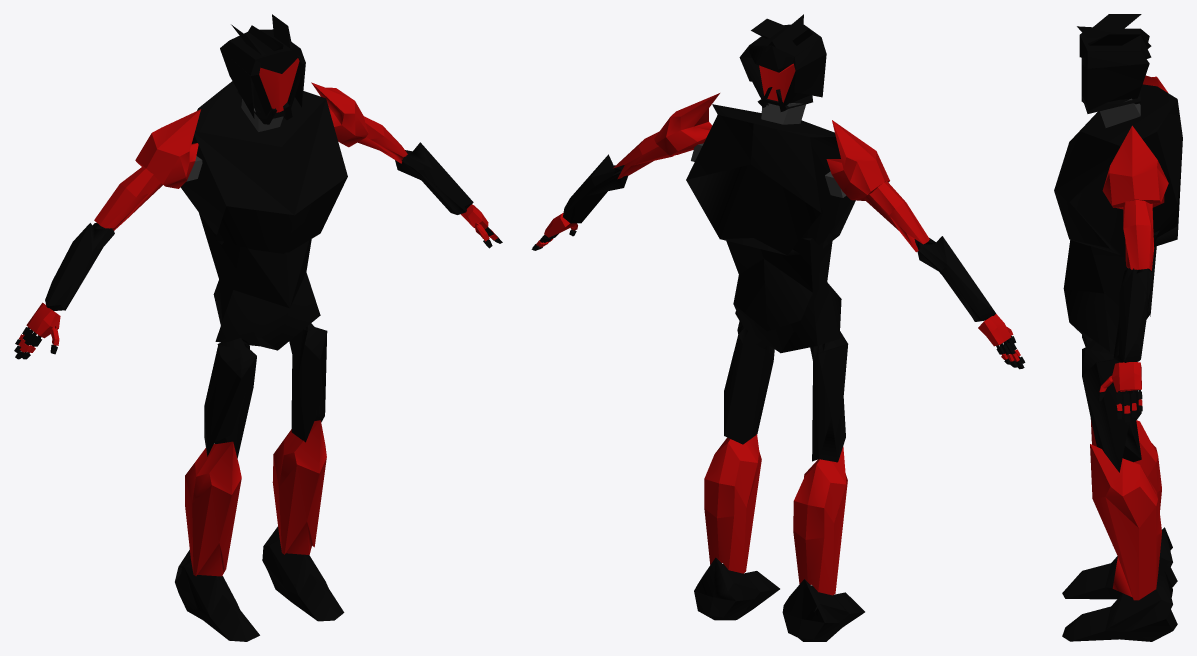
The model's file is Enemy Base.fbx.
The picture shows the model from 3 angles, left to right: view 1: azimuth 30°, elevation 25°; view 2: azimuth 150°, elevation 25°; view 3: azimuth 270°, elevation 25°; orthographic projection.
Visible parts, largest first — view 1: Chest, Hip, Right_Lower_Leg, Left_Lower_Leg, Right_Upper_Arm, Head, Right_Upper_Leg, Left_Upper_Leg, Left_Feet, Right_Feet, Left_Upper_Arm, Right_Forearm (+3 smaller); view 2: Chest, Hip, Left_Lower_Leg, Right_Lower_Leg, Head, Right_Upper_Arm, Left_Upper_Leg, Right_Upper_Leg, Left_Feet, Right_Feet, Left_Upper_Arm, Right_Forearm (+3 smaller); view 3: Chest, Left_Lower_Leg, Head, Hip, Left_Upper_Arm, Left_Feet, Left_Upper_Leg, Left_Forearm, Right_Feet, Right_Lower_Leg, Left_Wrist, Neck.
Boxes of the visible parts, x1,y1,x2,y2 form: Chest: (180, 81, 347, 253); Hip: (199, 213, 320, 350); Right_Lower_Leg: (185, 441, 241, 576); Left_Lower_Leg: (272, 420, 326, 554); Right_Upper_Arm: (94, 109, 200, 230); Head: (220, 14, 305, 124); Right_Upper_Leg: (204, 338, 256, 458); Left_Upper_Leg: (289, 323, 327, 442); Left_Feet: (262, 526, 344, 621); Right_Feet: (175, 550, 259, 641); Left_Upper_Arm: (311, 82, 407, 163); Right_Forearm: (45, 222, 114, 310); Chest: (686, 104, 855, 255); Hip: (726, 238, 841, 353); Left_Lower_Leg: (704, 434, 761, 573); Right_Lower_Leg: (793, 446, 847, 595); Head: (739, 14, 826, 111); Right_Upper_Arm: (826, 120, 929, 252); Left_Upper_Leg: (724, 321, 774, 444); Right_Upper_Leg: (810, 331, 848, 462); Left_Feet: (694, 557, 779, 620); Right_Feet: (782, 579, 864, 641); Left_Upper_Arm: (613, 93, 719, 179); Right_Forearm: (914, 236, 995, 321); Chest: (1054, 84, 1182, 254); Left_Lower_Leg: (1090, 444, 1161, 600); Head: (1077, 14, 1151, 113); Hip: (1063, 230, 1159, 351); Left_Upper_Arm: (1102, 125, 1168, 270); Left_Feet: (1062, 570, 1177, 641); Left_Upper_Leg: (1082, 340, 1141, 472); Left_Forearm: (1113, 268, 1153, 362); Right_Feet: (1062, 527, 1177, 599); Right_Lower_Leg: (1090, 418, 1161, 545); Left_Wrist: (1111, 362, 1141, 392); Neck: (1100, 98, 1140, 127).
Size of the model in its own units: 160 by 184 by 36.38.
